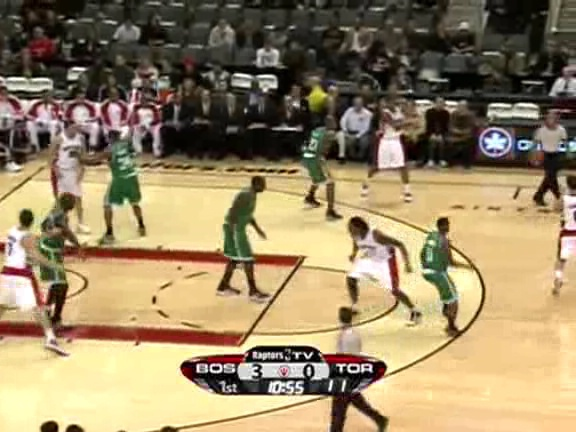person: (415, 225, 449, 306), (414, 225, 448, 306), (416, 225, 450, 306), (415, 224, 449, 305), (415, 226, 449, 307)
target_negative: (14, 312, 453, 426), (539, 197, 562, 332), (317, 278, 475, 292), (267, 255, 303, 312), (317, 404, 484, 413), (515, 374, 521, 400)
